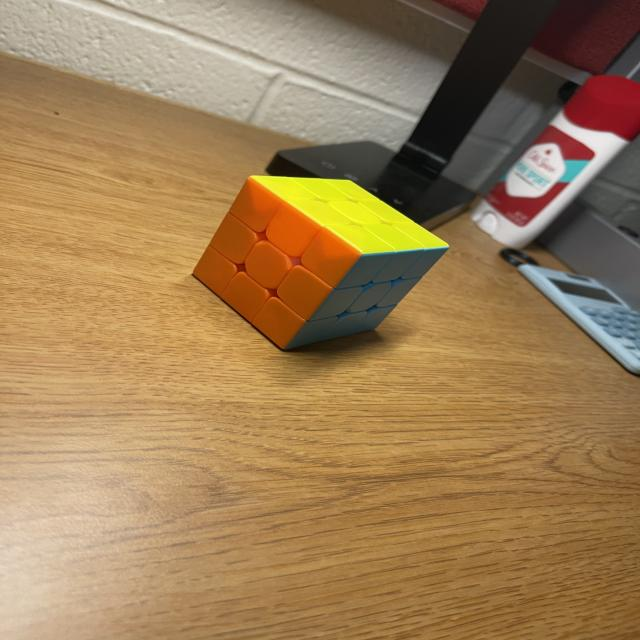Rubiks Cube: (191, 175, 450, 351)
